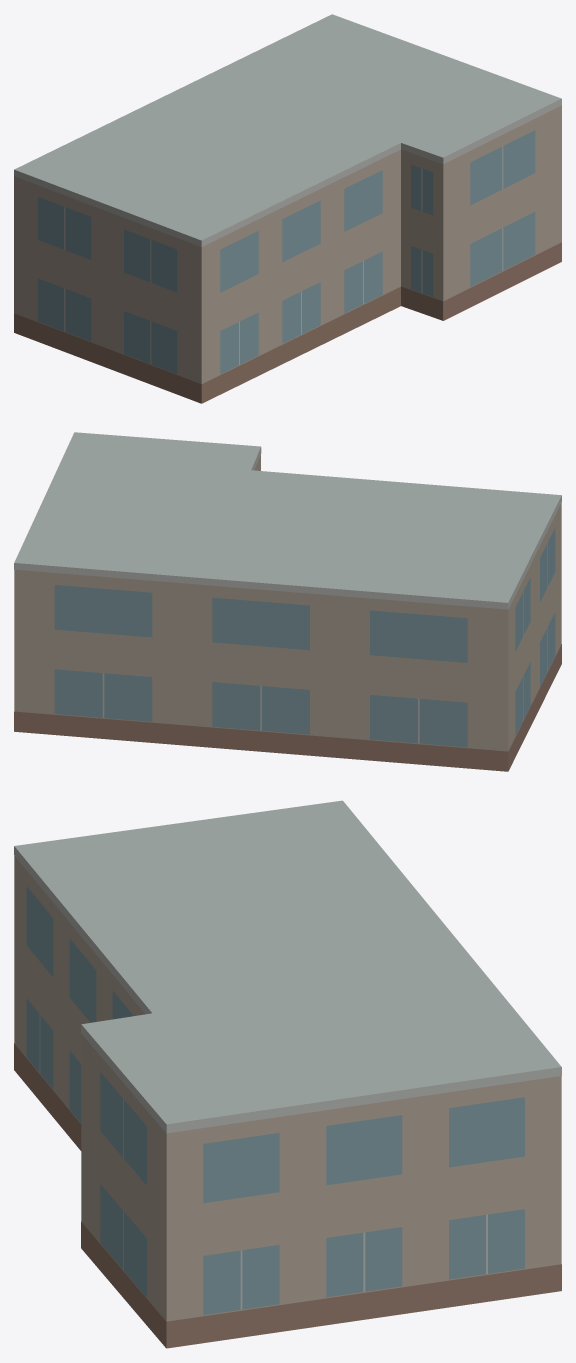
The model's file is survey-upis-32760539.glb.
The picture shows the model from 3 angles, top to bottom: view 1: azimuth 30°, elevation 25°; view 2: azimuth 150°, elevation 25°; view 3: azimuth 270°, elevation 25°; orthographic projection. The views are drawn at different scales.
Parts seen in each view (by area): view 1: survey-upis-32760539.tmp; view 2: survey-upis-32760539.tmp; view 3: survey-upis-32760539.tmp.
Boxes of the visible parts, x1,y1,x2,y2 form: survey-upis-32760539.tmp: (14,14,561,403); survey-upis-32760539.tmp: (14,432,561,771); survey-upis-32760539.tmp: (14,800,561,1348).
Size of the model in its own units: 18.93 by 6.1 by 13.53.
